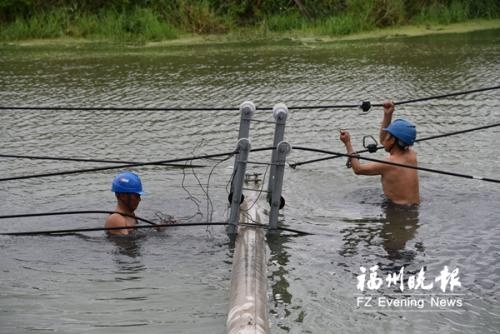blue: (109, 169, 145, 210), (381, 117, 417, 153)
